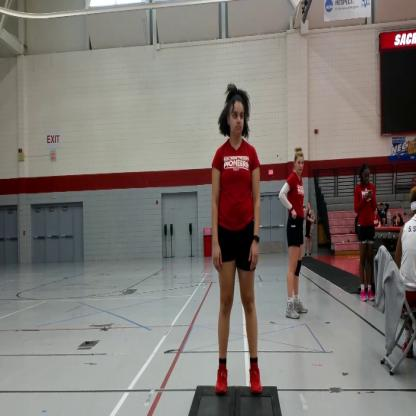lateral_flexion_normal: (209, 79, 264, 399)
stance_width_normal: (210, 138, 264, 400)
